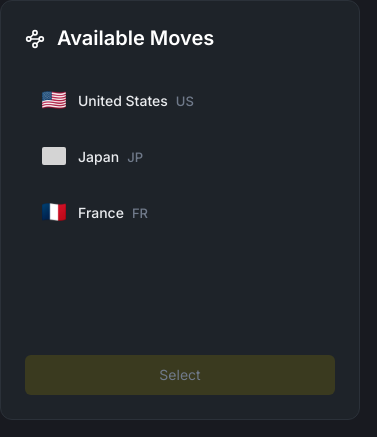
Test case: should enable the select button when a country is selected
The width and height of the screenshot is (377, 437).
Click the option "Japan JP".
click(99, 156)  # box 25,132 -> 327,180
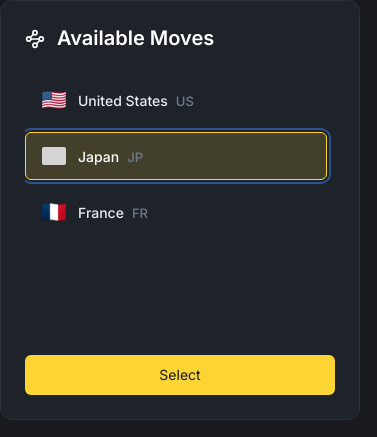
Result: the button "Select" is enabled at 25,355 -> 335,395
